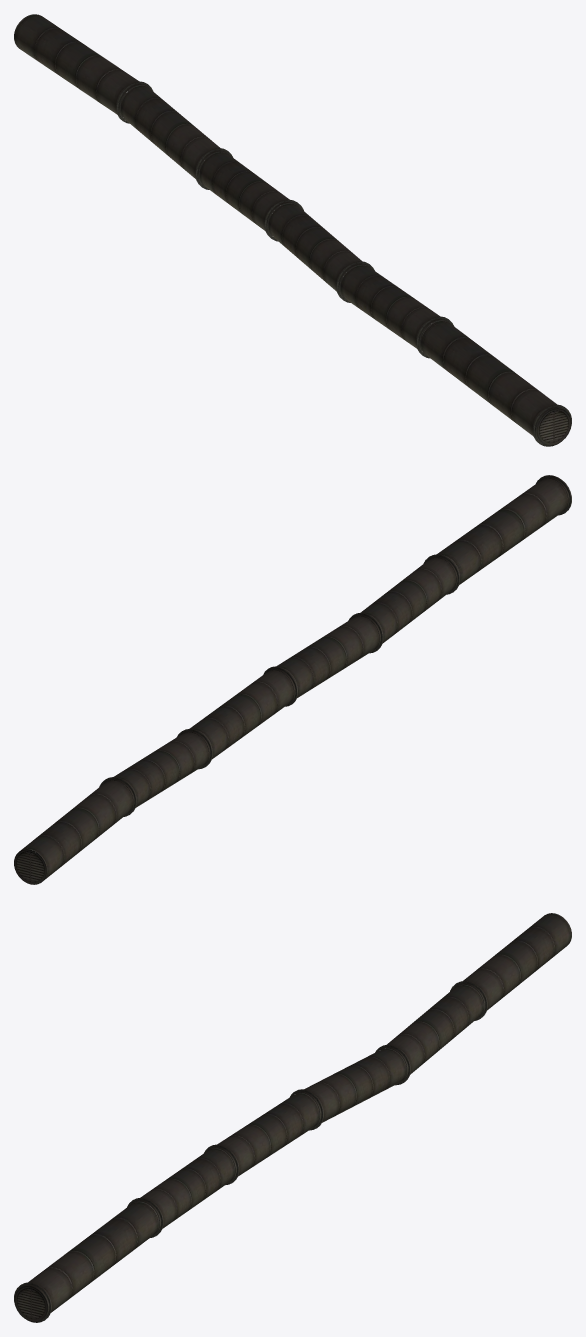
Rendered from pipe_ceiling_1024.glb.
The picture shows the model from 3 angles, top to bottom: view 1: azimuth 30°, elevation 25°; view 2: azimuth 150°, elevation 25°; view 3: azimuth 330°, elevation 25°; orthographic projection. The views are drawn at different scales.
Parts seen in each view (by area): view 1: 0_pipe_ceiling01; view 2: 0_pipe_ceiling01; view 3: 0_pipe_ceiling01.
Boxes of the visible parts, x1,y1,x2,y2 form: 0_pipe_ceiling01: [14, 14, 571, 446]; 0_pipe_ceiling01: [14, 475, 571, 884]; 0_pipe_ceiling01: [14, 913, 571, 1322].
Size of the model in its own units: 2 by 1.74 by 32.52.
1 material, 1 textured.
